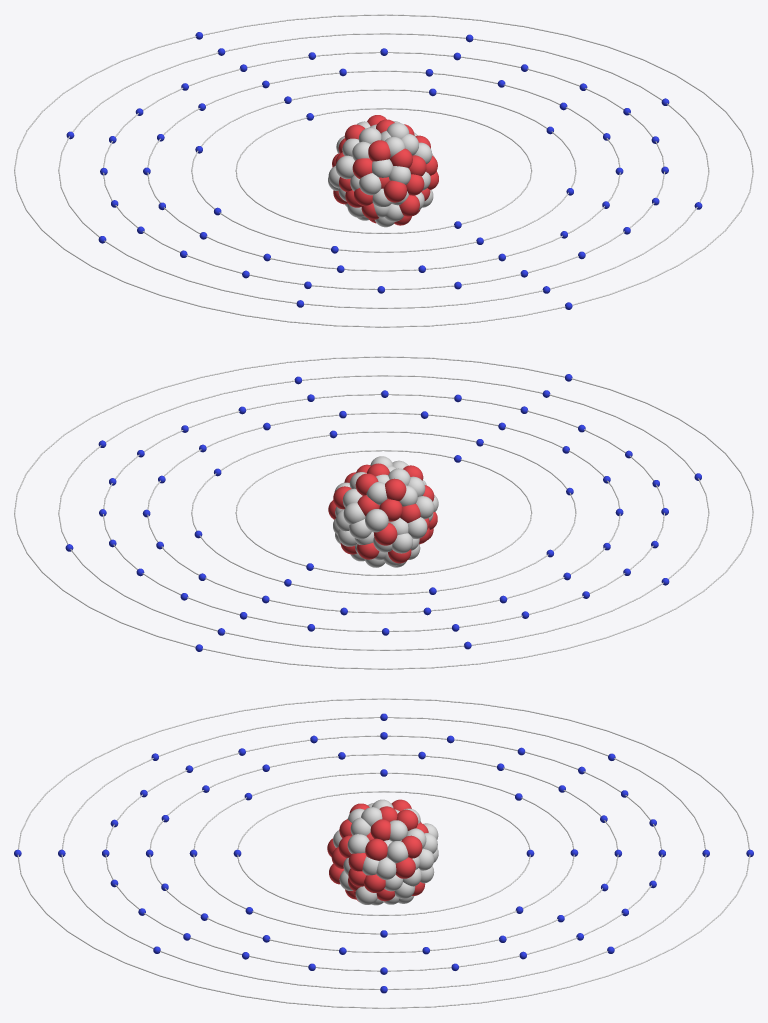
The model's file is Samarium.glb.
The picture shows the model from 3 angles, top to bottom: view 1: azimuth 30°, elevation 25°; view 2: azimuth 150°, elevation 25°; view 3: azimuth 270°, elevation 25°; orthographic projection.
Visible parts, largest first — view 1: P-Schale, O-Schale, N-Schale, M-Schale, L-Schale, K-Schale; view 2: P-Schale, O-Schale, N-Schale, M-Schale, L-Schale, K-Schale; view 3: P-Schale, O-Schale, N-Schale, M-Schale, L-Schale, K-Schale.
Part boxes in pixels (box(x1,y1,x2,y2)): P-Schale: box(14, 14, 753, 327); O-Schale: box(58, 33, 709, 308); N-Schale: box(103, 52, 665, 289); M-Schale: box(147, 70, 620, 271); L-Schale: box(191, 89, 576, 252); K-Schale: box(235, 108, 532, 233); P-Schale: box(14, 356, 753, 669); O-Schale: box(58, 375, 709, 650); N-Schale: box(103, 393, 664, 631); M-Schale: box(147, 412, 620, 613); L-Schale: box(191, 431, 576, 594); K-Schale: box(235, 450, 532, 575); P-Schale: box(17, 698, 750, 1008); O-Schale: box(61, 717, 706, 989); N-Schale: box(105, 735, 662, 971); M-Schale: box(149, 754, 618, 952); L-Schale: box(193, 772, 574, 934); K-Schale: box(237, 791, 530, 915).
Size of the model in its own units: 25.04 by 3.66 by 25.26.
